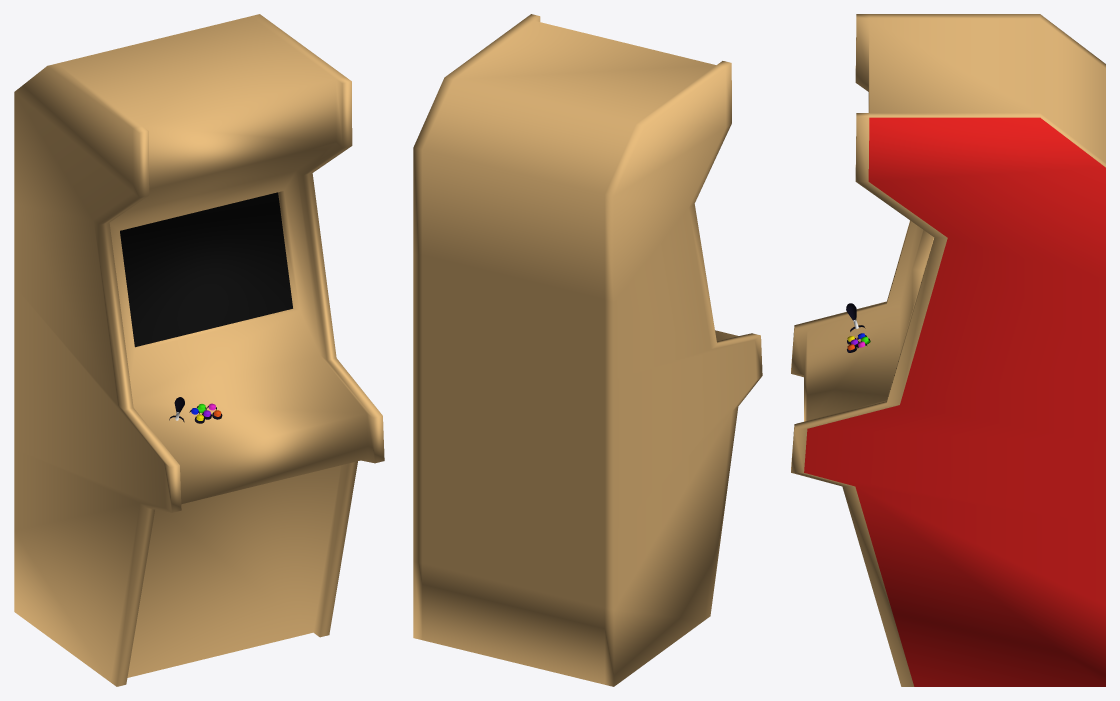
Rendered from arcade1.fbx.
3 renders of one model, left to right at view 1: azimuth 30°, elevation 25°; view 2: azimuth 150°, elevation 25°; view 3: azimuth 270°, elevation 25°, orthographic. The views are drawn at different scales.
Parts seen in each view (by area): view 1: Cube; view 2: Cube; view 3: Cube.
Boxes of the visible parts, box(x1,y1,x2,y2) form: Cube: box(14, 14, 384, 686); Cube: box(413, 14, 762, 686); Cube: box(791, 14, 1105, 686).
Bounding box in the file's own units: 69.64 × 178 × 89.45.
